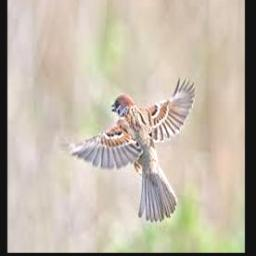Sparrow: (62, 76, 196, 222)
